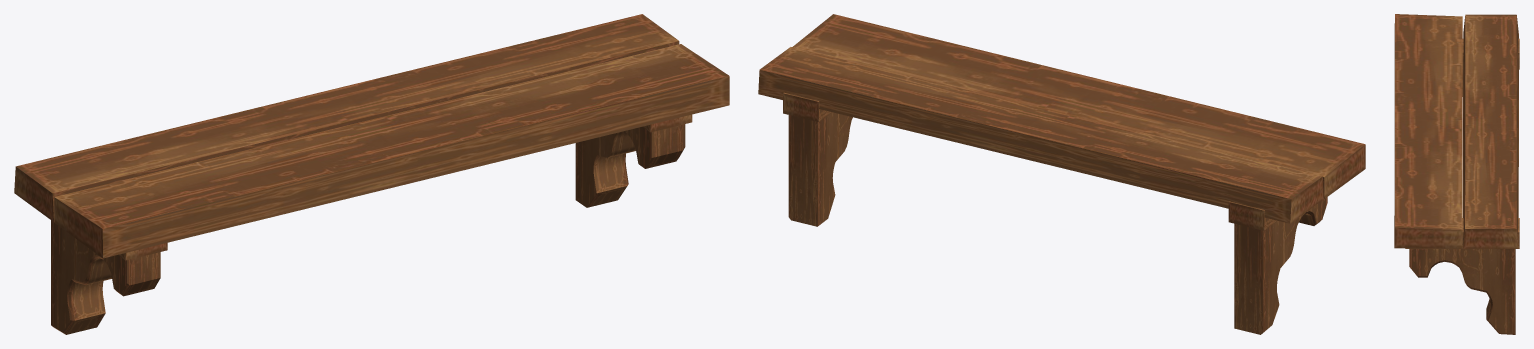
The model's file is shelf_simple.gltf.
The picture shows the model from 3 angles, left to right: view 1: azimuth 30°, elevation 25°; view 2: azimuth 150°, elevation 25°; view 3: azimuth 270°, elevation 25°; orthographic projection. The views are drawn at different scales.
Parts seen in each view (by area): view 1: Shelf_Simple; view 2: Shelf_Simple; view 3: Shelf_Simple.
Part boxes in pixels (x1,y1,x2,y2): Shelf_Simple: [14, 14, 729, 334]; Shelf_Simple: [758, 14, 1365, 334]; Shelf_Simple: [1394, 14, 1519, 334].
Size of the model in its own units: 1.18 by 0.3087 by 0.2923.
1 material, 1 textured.
